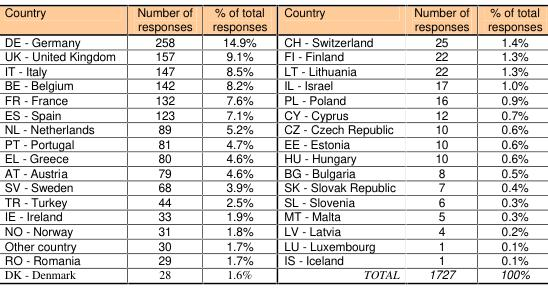table: (3, 3, 541, 281)
table column: (274, 3, 406, 281), (3, 3, 125, 281), (125, 3, 201, 281), (201, 3, 274, 281), (406, 3, 477, 281), (477, 3, 541, 281)
table column header: (3, 3, 541, 33)
table row: (3, 3, 541, 33), (3, 33, 541, 48), (3, 48, 541, 63), (3, 77, 541, 92), (3, 106, 541, 121), (3, 135, 541, 150), (3, 164, 541, 179), (3, 193, 541, 208), (3, 208, 541, 223), (3, 237, 541, 252), (3, 266, 541, 281), (3, 63, 541, 77), (3, 92, 541, 106), (3, 121, 541, 135), (3, 150, 541, 164), (3, 179, 541, 193), (3, 223, 541, 237), (3, 252, 541, 266)
